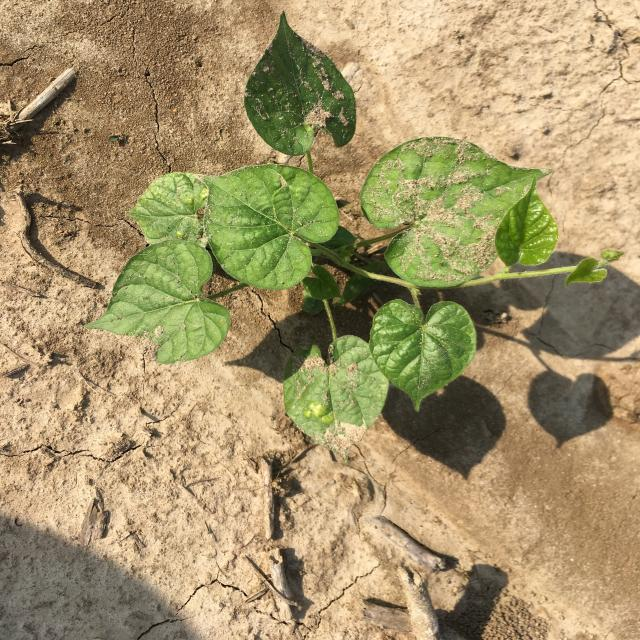MorningGlory: (84, 10, 624, 464)
